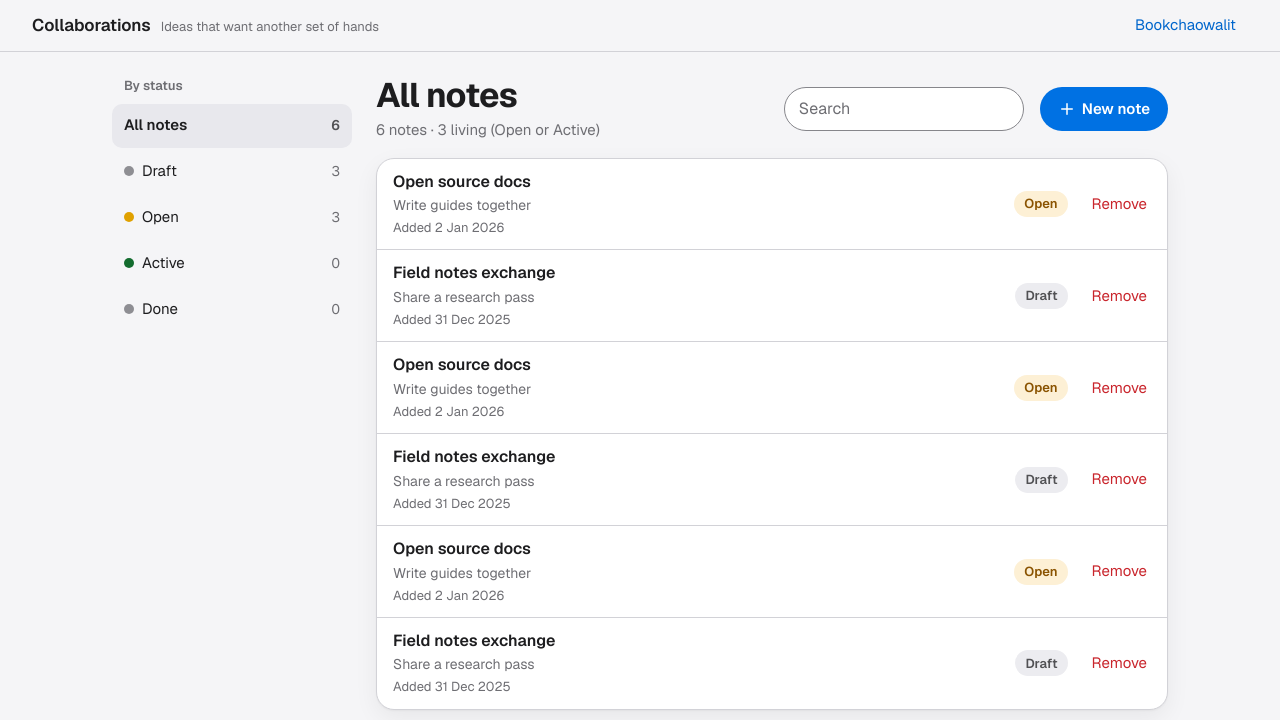
batch Undo › consecutive removes restore together with one Undo
This screenshot has width=1280, height=720.
Click the 2nd button with class "as-danger" at (1119,296), box 1080,274 -> 1159,318
Wait 4000 ms
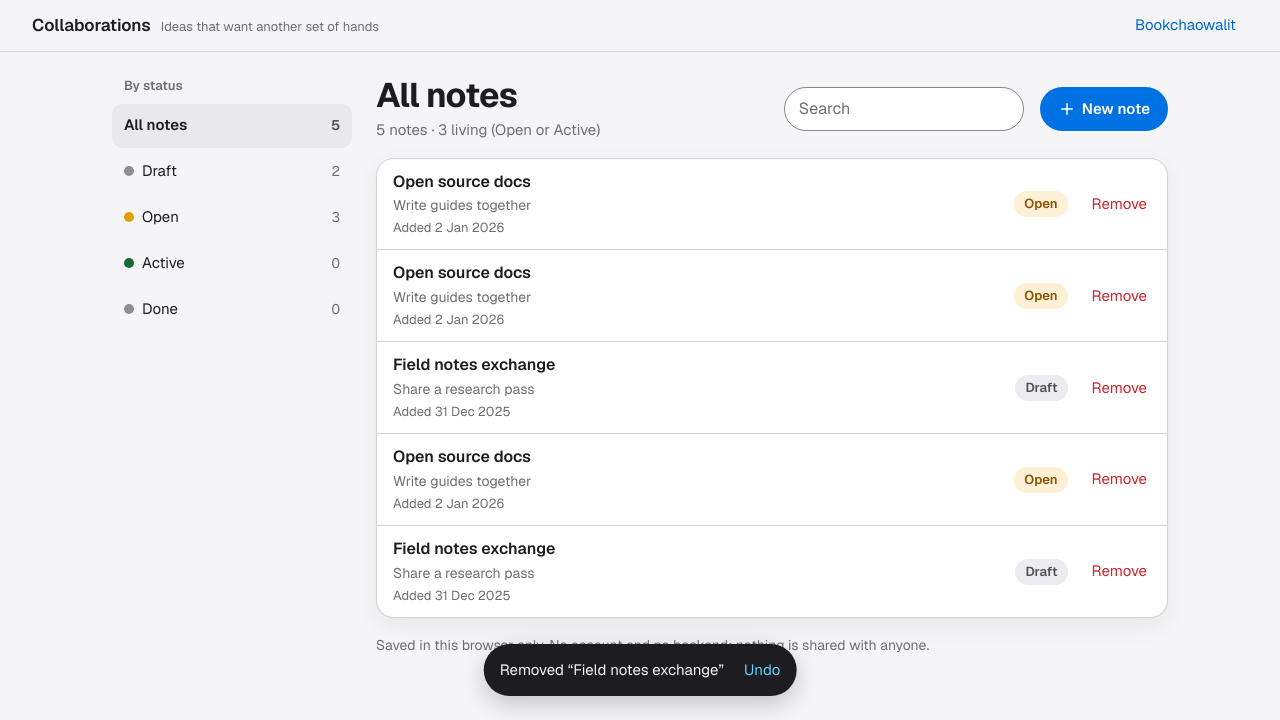
Click the 1st button with class "as-danger" at (1119,204), box 1080,182 -> 1159,226
Wait 4000 ms
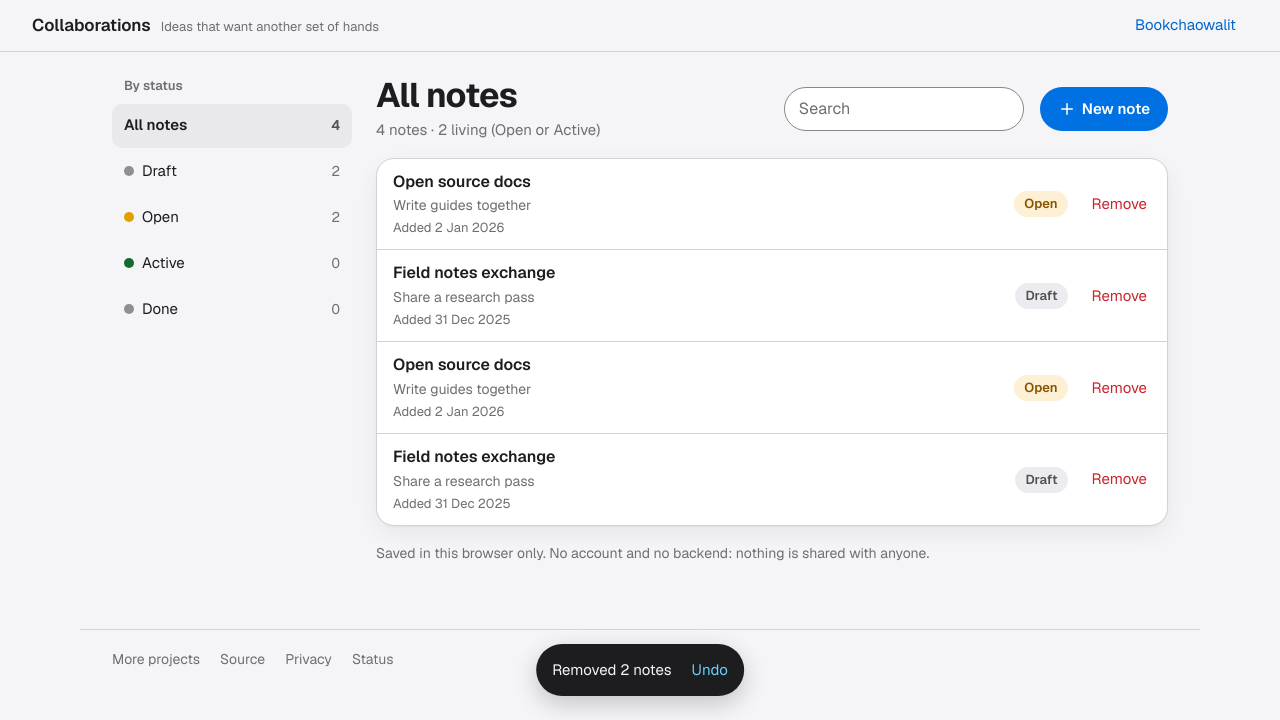
Expected: the text "Removed 2 notes" is shown, 552,659 -> 672,681
Click the button "Undo" at (710,670), box 680,648 -> 740,692
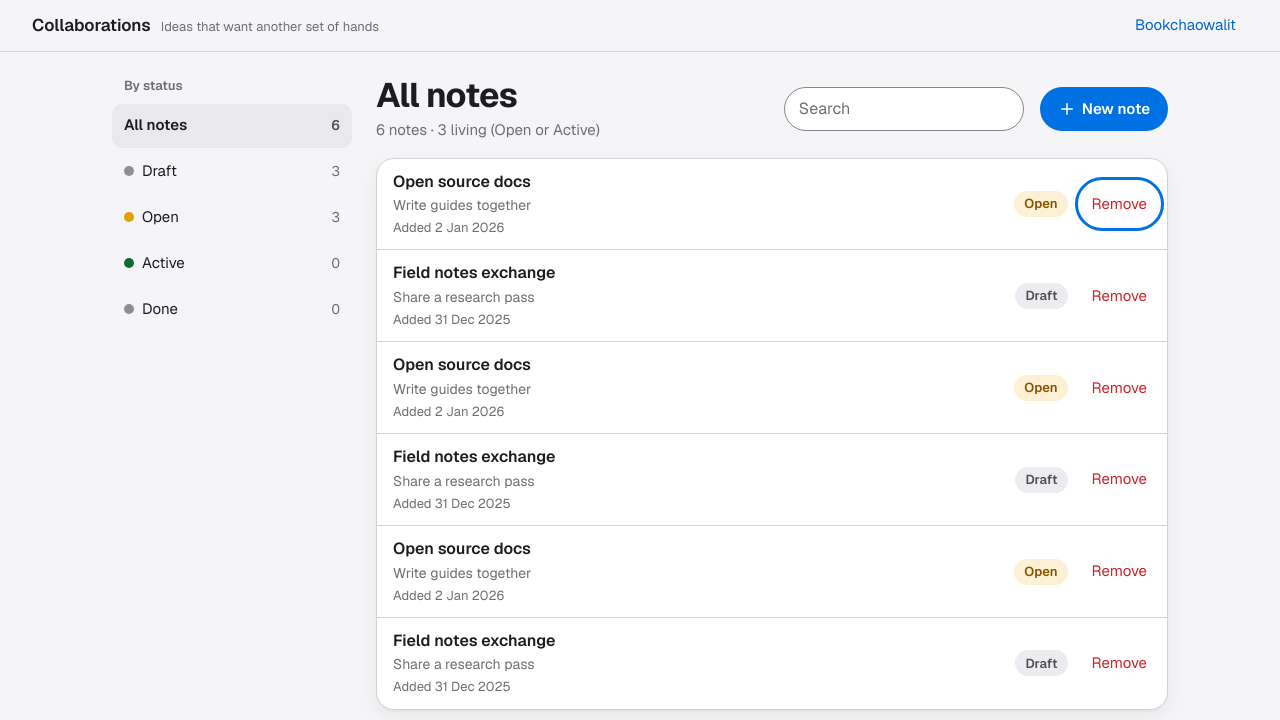
Expected: the element with class "as-toast" is gone
